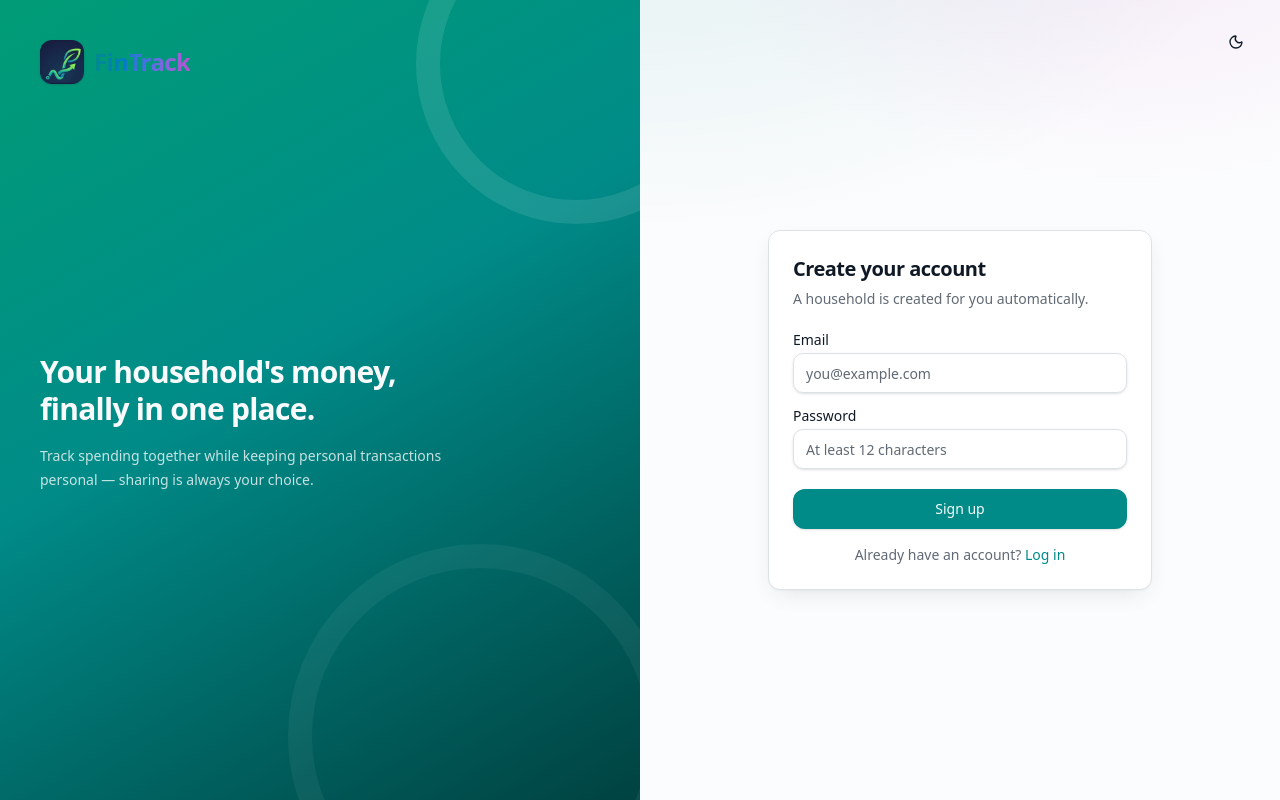
it: SignupPage › enforces the 12-character password rule client-side
Type "jane@example.com" into the field labelled "Email" at (960, 373), box x1=793 y1=353 x2=1127 y2=393
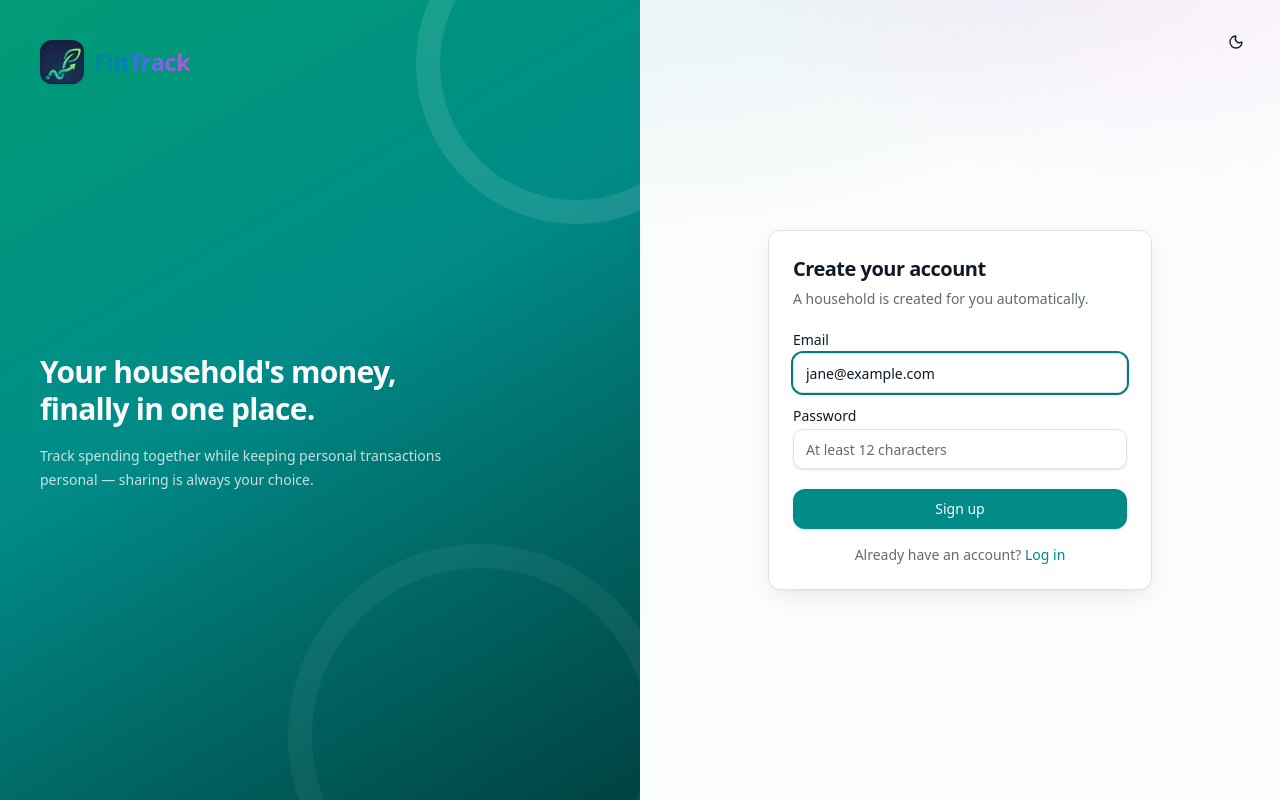
Type "short" into the password field labelled "Password" at (960, 449), box x1=793 y1=429 x2=1127 y2=469
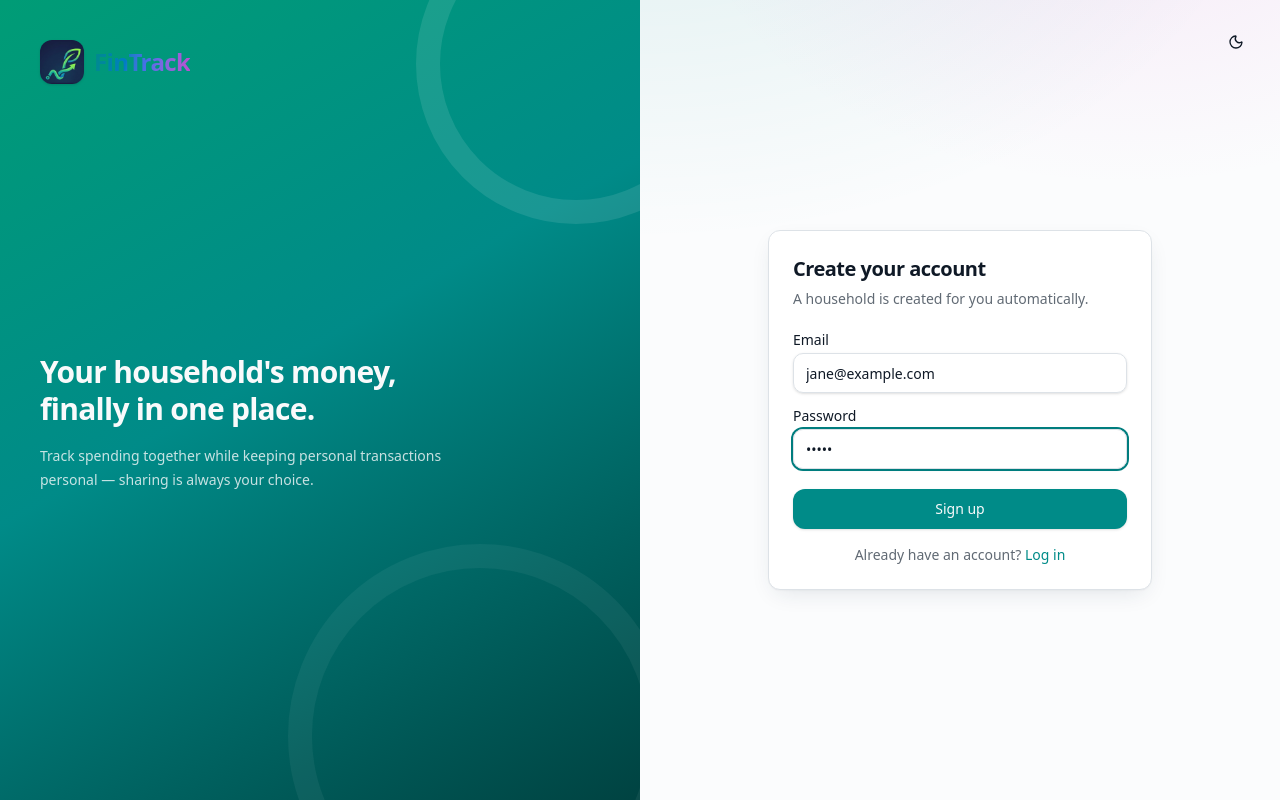
Click the button "Sign up" at (960, 509), box x1=793 y1=489 x2=1127 y2=529
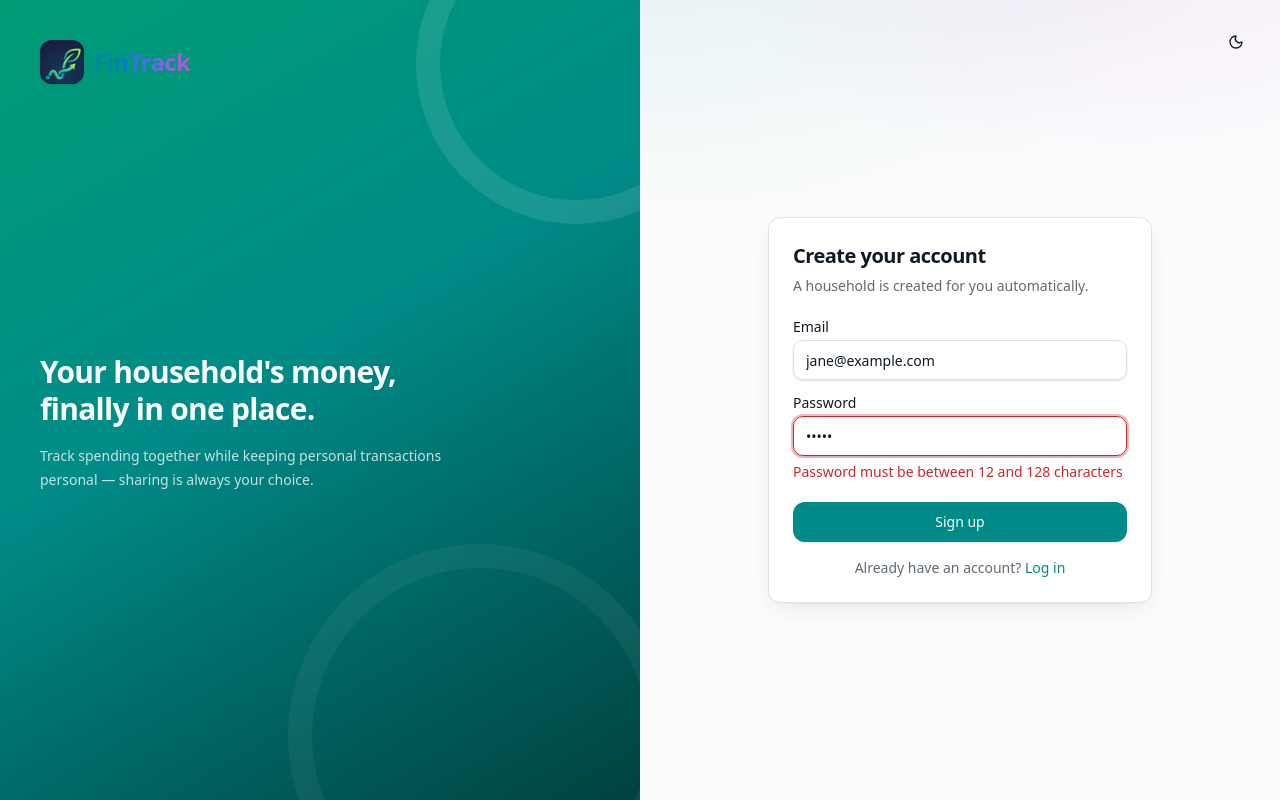
Now the text "Password must be between 12 and 128 characters" is shown, box x1=793 y1=462 x2=1127 y2=482
